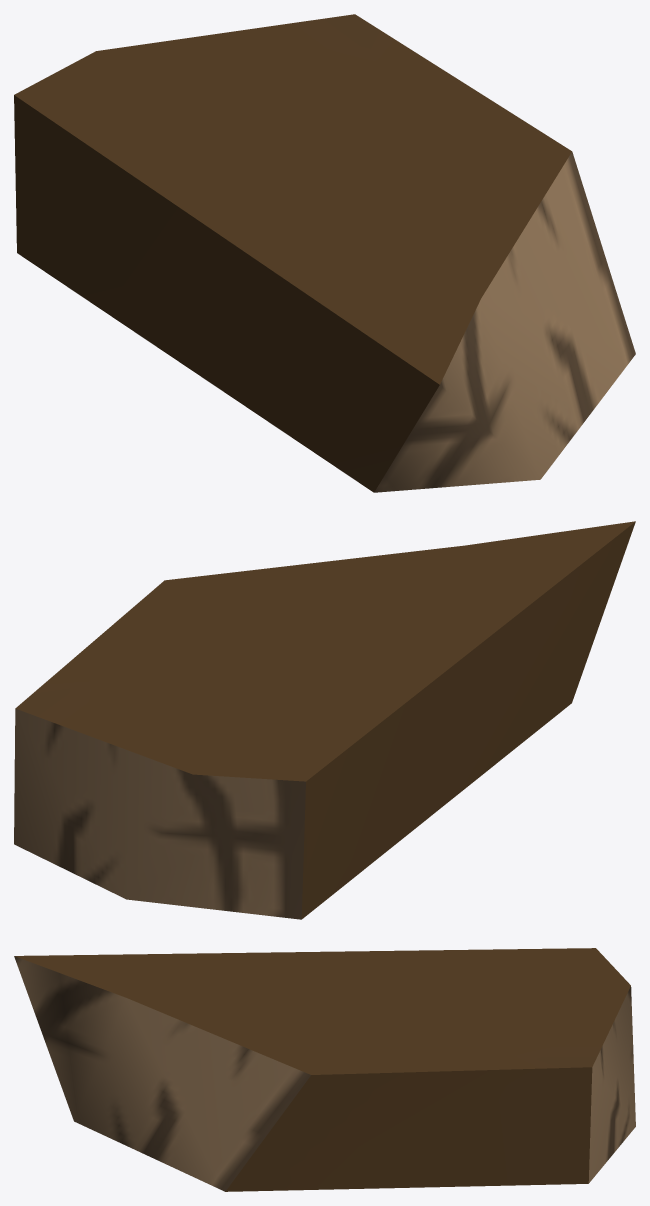
File: FX_wood_C.FBX
3 views of the same model, one above another, from view 1: azimuth 30°, elevation 25°; view 2: azimuth 150°, elevation 25°; view 3: azimuth 270°, elevation 25° (orthographic). The views are drawn at different scales.
Parts seen in each view (by area): view 1: FX_wood_C; view 2: FX_wood_C; view 3: FX_wood_C.
Part boxes in pixels (bbox=[...]): FX_wood_C: bbox=[14, 14, 635, 492]; FX_wood_C: bbox=[14, 521, 635, 919]; FX_wood_C: bbox=[14, 948, 635, 1191].
Bounding box in the file's own units: 17.86 × 7.49 × 36.56.
Materials: 1 (1 with a texture image).
